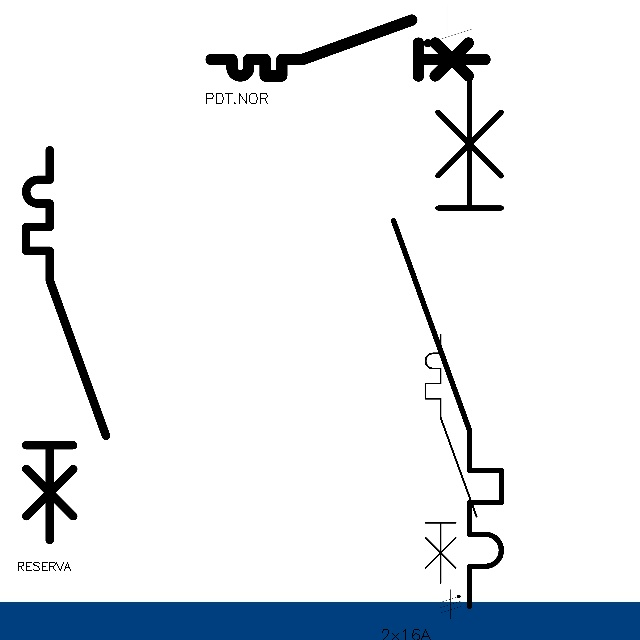interruptor_termomagnetico: (380, 66, 515, 619), (16, 140, 116, 550), (204, 13, 492, 83), (419, 328, 483, 589)
